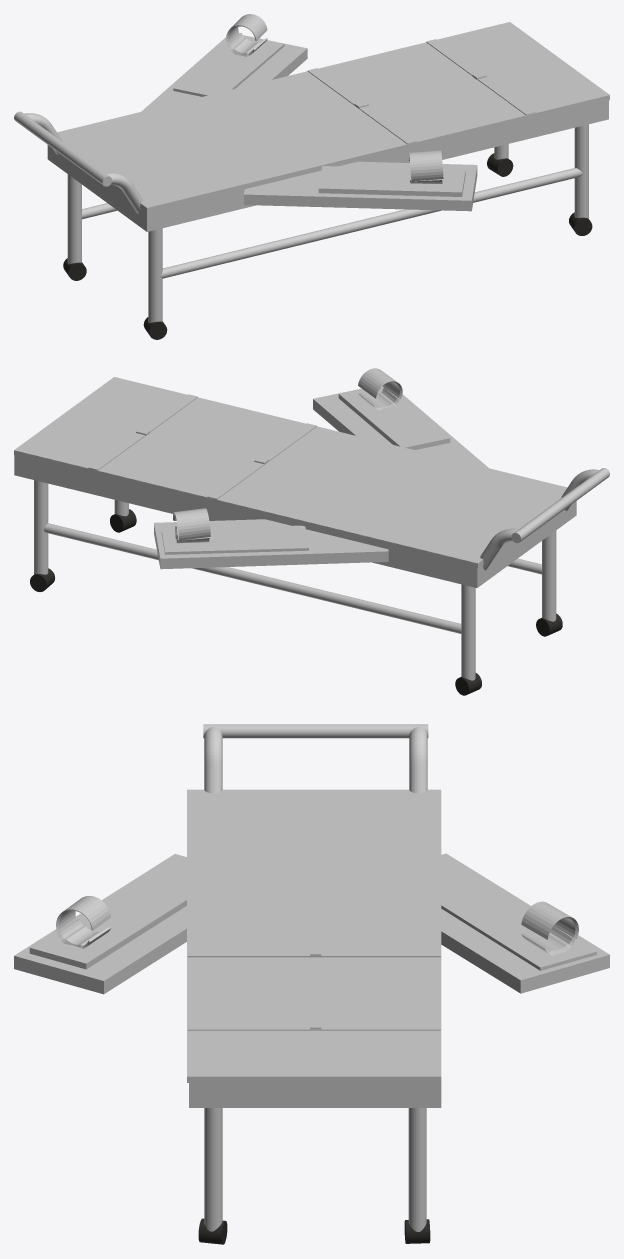
The model's file is bed.fbx.
3 views of the same model, one above another, from view 1: azimuth 30°, elevation 25°; view 2: azimuth 150°, elevation 25°; view 3: azimuth 270°, elevation 25° (orthographic). The views are drawn at different scales.
Parts seen in each view (by area): view 1: Cube, Cube.001, Cylinder.003, Cube.004, Cylinder, Cylinder.011, Cube.002, Cube.005; view 2: Cube, Cube.001, Cylinder.003, Cube.004, Cylinder, Cylinder.011, Cube.002, Cube.005; view 3: Cube, Cube.001, Cylinder.003, Cube.004, Cylinder, Cube.005, Cube.002, Cylinder.011.
Boxes of the visible parts, box(x1,y1,x2,y2) form: Cube: box(57, 22, 609, 212); Cube.001: box(47, 37, 608, 231); Cylinder.003: box(14, 111, 588, 322); Cube.004: box(173, 35, 465, 196); Cylinder: box(226, 14, 443, 183); Cylinder.011: box(63, 153, 592, 339); Cube.002: box(307, 68, 416, 144); Cube.005: box(426, 39, 535, 115); Cube: box(14, 377, 567, 568); Cube.001: box(14, 389, 576, 587); Cylinder.003: box(34, 468, 609, 680); Cube.004: box(161, 386, 450, 554); Cylinder: box(173, 368, 402, 543); Cylinder.011: box(30, 509, 562, 695); Cube.002: box(207, 423, 316, 499); Cube.005: box(88, 394, 197, 470); Cube: box(187, 789, 440, 1082); Cube.001: box(14, 791, 609, 1107); Cylinder.003: box(203, 724, 428, 1231); Cube.004: box(29, 883, 596, 970); Cylinder: box(56, 896, 578, 955); Cube.005: box(187, 1023, 440, 1030); Cube.002: box(187, 950, 440, 957); Cylinder.011: box(198, 1218, 430, 1244).
Size of the model in its own units: 545 by 182 by 442.
